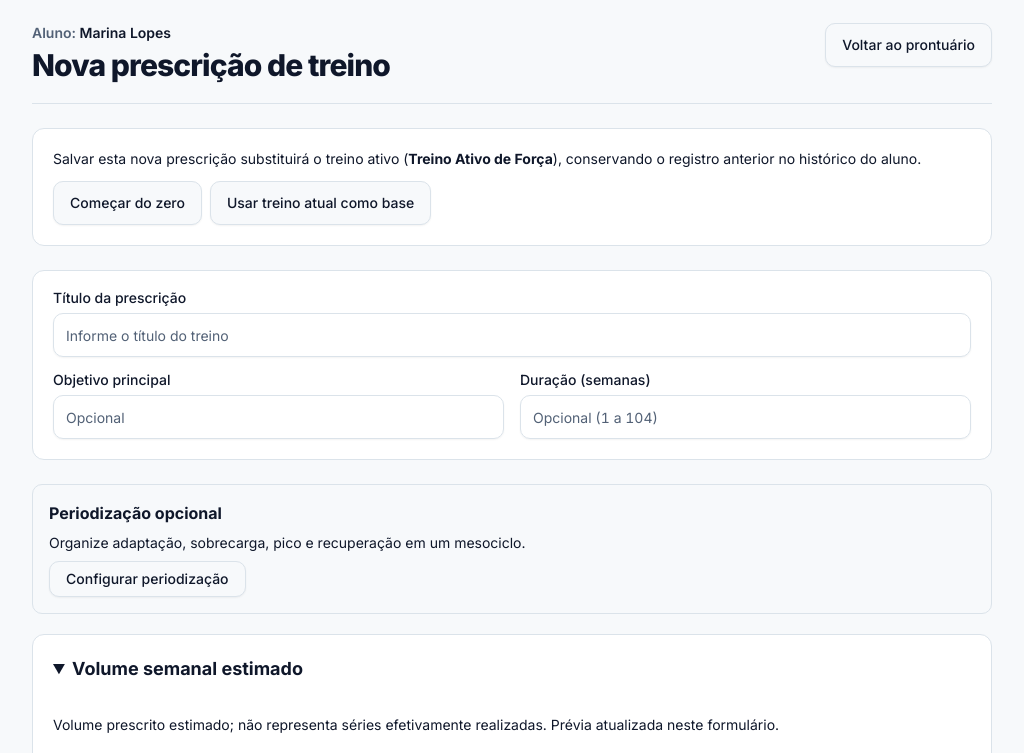
Test: WorkoutEditor › starts_blank_and_copies_only_after_click
Expected: the field labelled "Título da prescrição" is empty, [53,313,971,357]
Click the button "Usar treino atual como base": (321,203) [210,181,431,225]
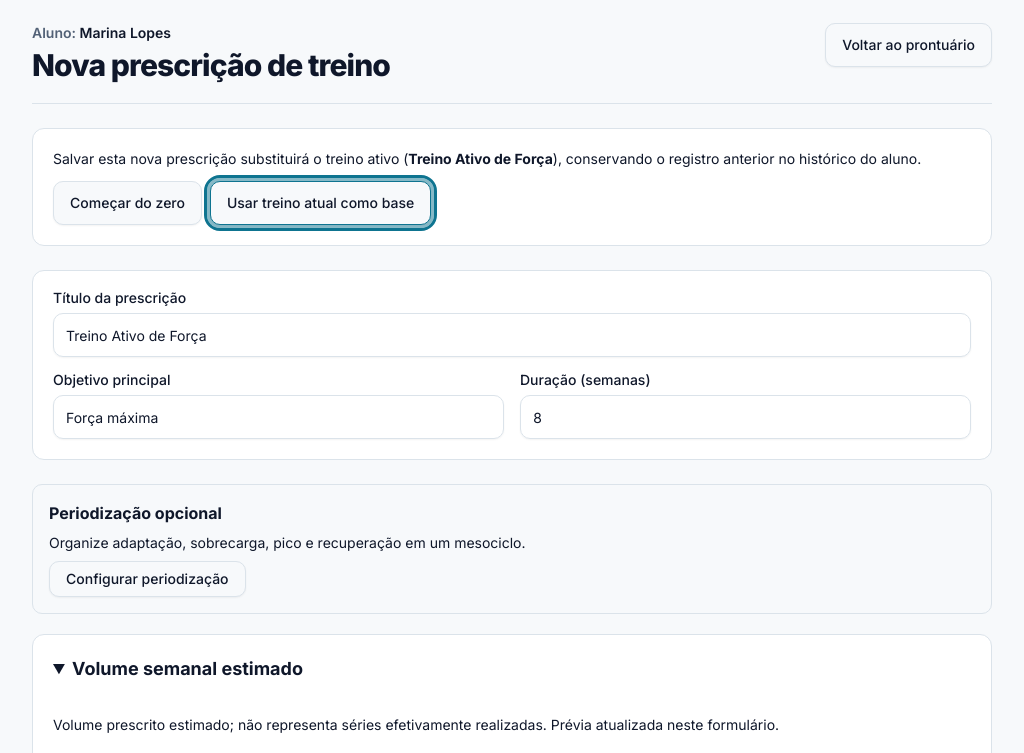
Expected: the field showing "Treino Ativo de Força" is shown, [53,313,971,357]
Click the button "Começar do zero": (128,203) [53,181,202,225]
(page scrolled)
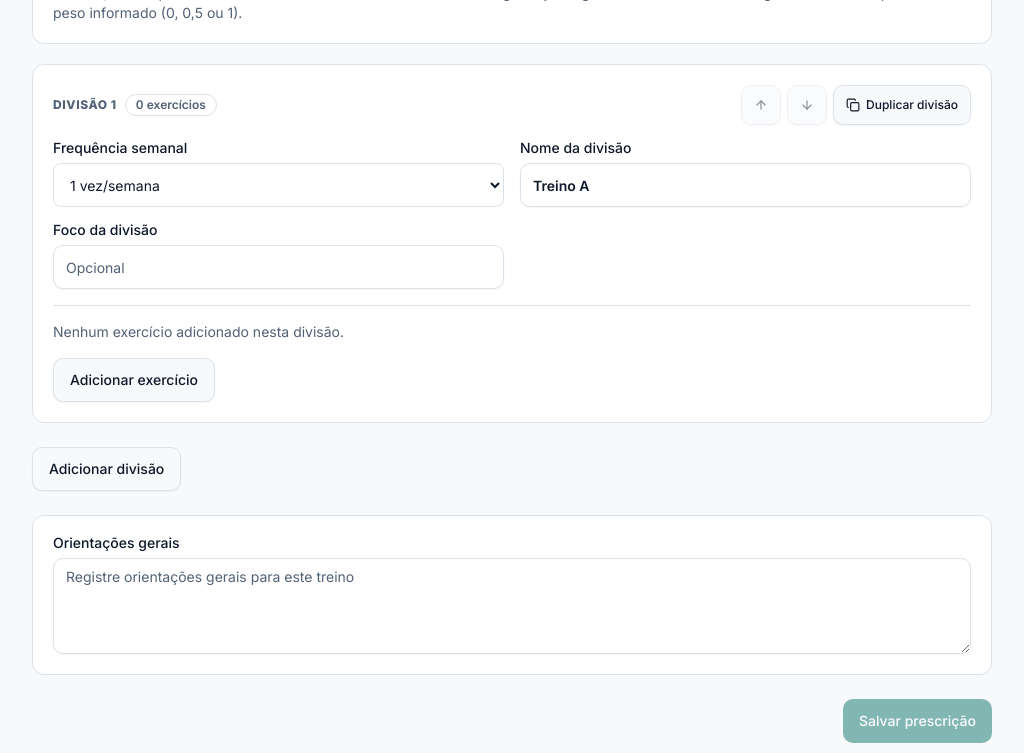
Expected: the button "Salvar prescrição" is disabled, [843,699,992,743]
